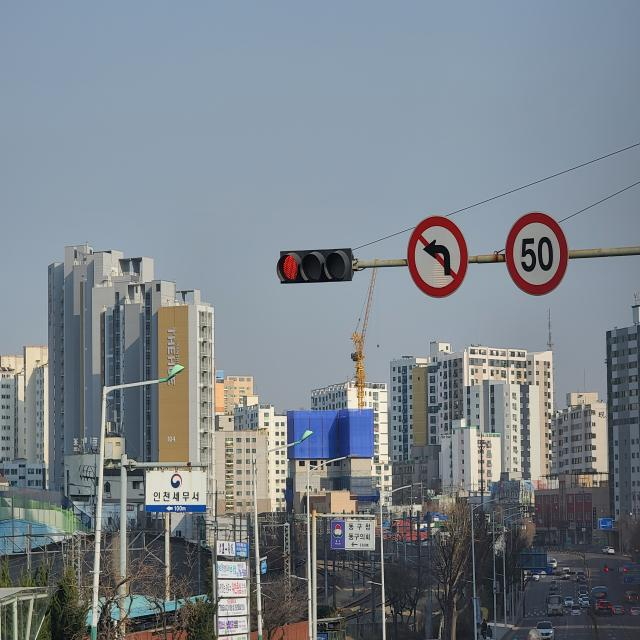Red Light: (278, 248, 300, 283)
